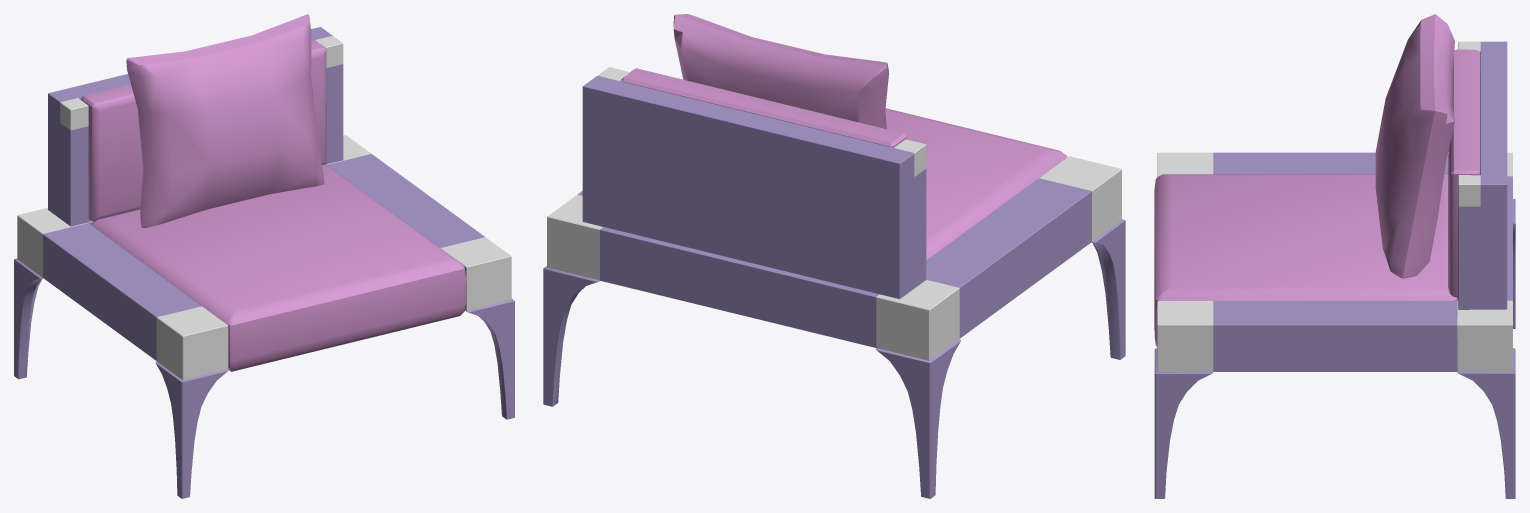
3 views of the same model, side by side, from view 1: azimuth 30°, elevation 25°; view 2: azimuth 150°, elevation 25°; view 3: azimuth 270°, elevation 25° (orthographic). The views are drawn at different scales.
Parts seen in each view (by area): view 1: DBCDF016; view 2: DBCDF016; view 3: DBCDF016.
Part boxes in pixels (x1,y1,x2,y2): DBCDF016: (14,14,514,498); DBCDF016: (543,14,1125,498); DBCDF016: (1154,14,1515,498).
Bounding box in the file's own units: 80 × 70 × 75.
